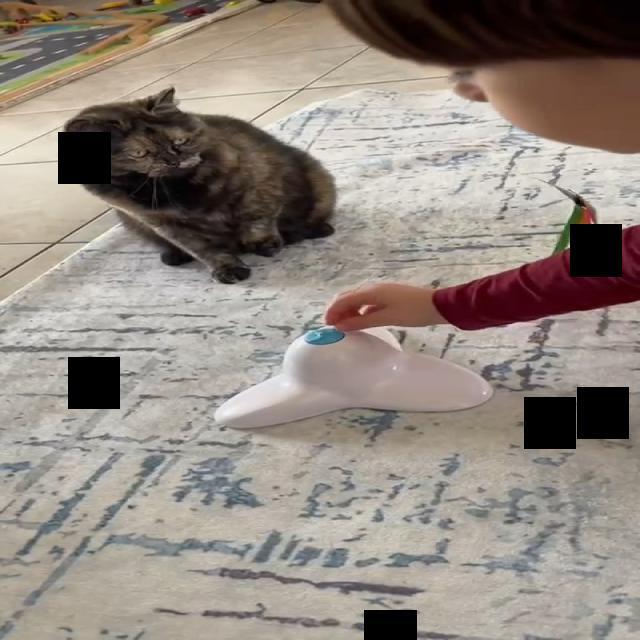authorized: (60, 85, 337, 284)
